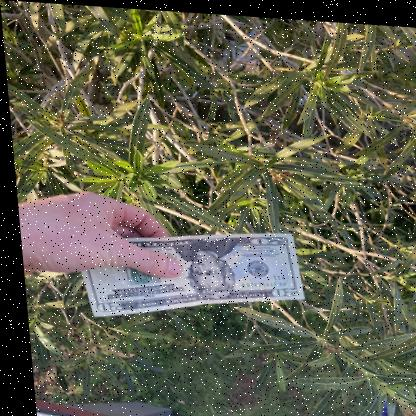twenty-front: (82, 230, 302, 321)
